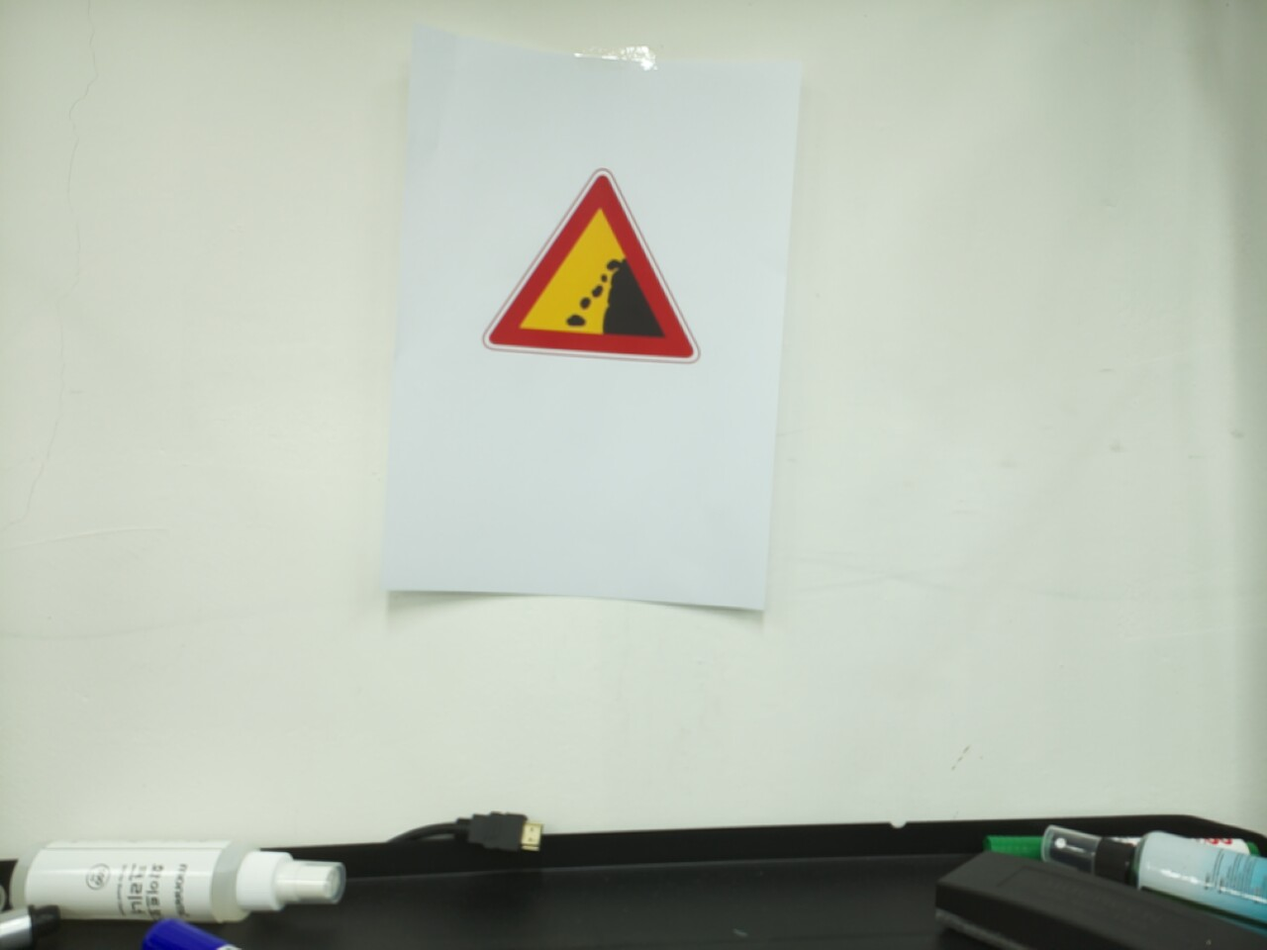falling_rocks: (481, 168, 702, 365)
